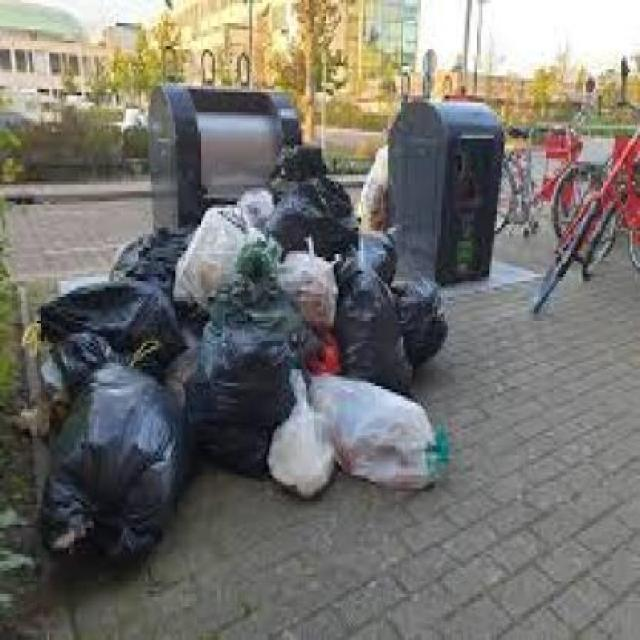garbage: (200, 214, 440, 495), (37, 285, 186, 562), (277, 147, 354, 216), (126, 236, 190, 282), (212, 193, 274, 213)
